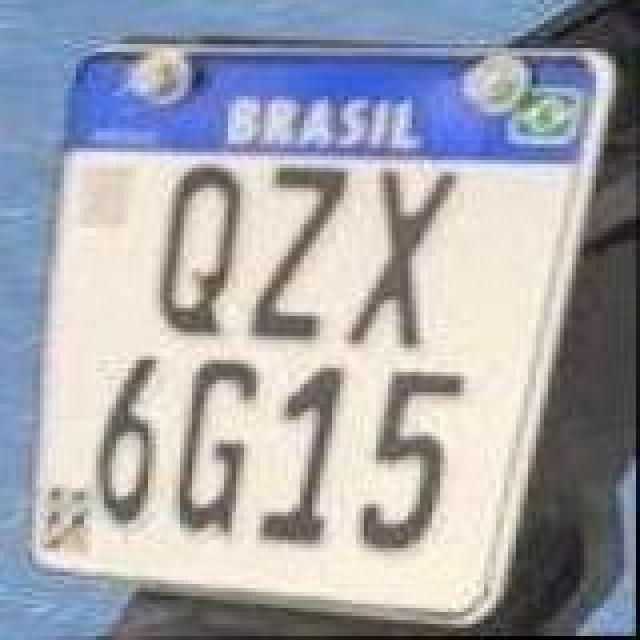1: (266, 368, 354, 548)
5: (356, 374, 472, 550)
6: (94, 354, 158, 526)
G: (178, 356, 266, 536)
Q: (154, 160, 242, 340)
X: (346, 164, 466, 352)
Z: (244, 162, 352, 346)
